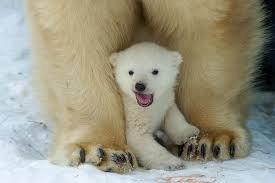bear: (105, 41, 207, 181)
